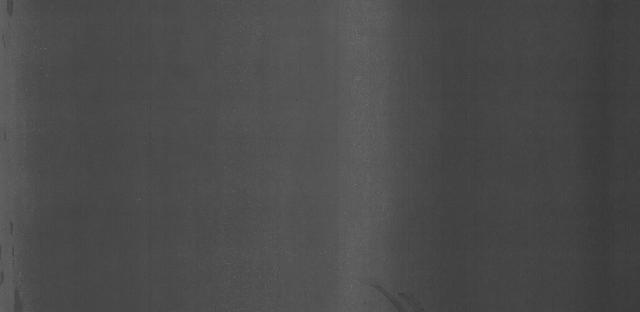water_spot: (367, 260, 426, 312)
